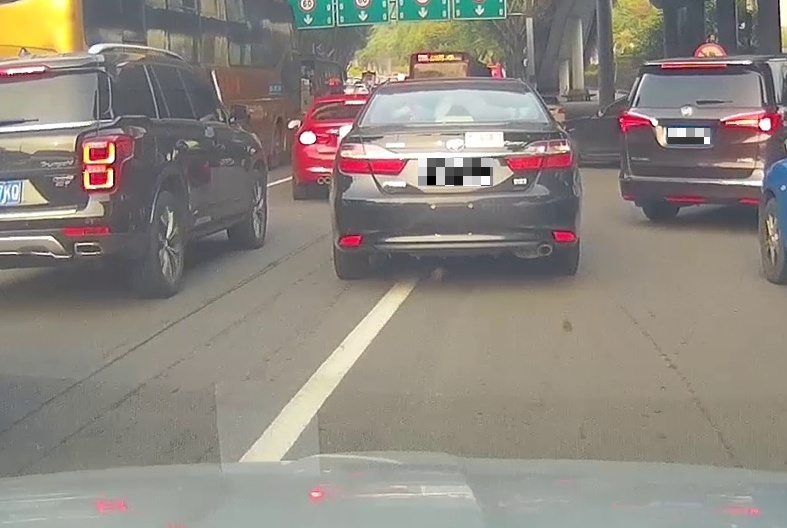L_light: (336, 142, 408, 176), (620, 111, 658, 133)
R_light: (504, 139, 573, 171), (718, 110, 783, 134)
T_light: (661, 62, 727, 68), (434, 115, 474, 122)
day-brake: (620, 57, 783, 221)
day-no: (330, 77, 582, 279)
plate_1: (418, 158, 493, 186)
plate_2: (668, 128, 710, 144)
